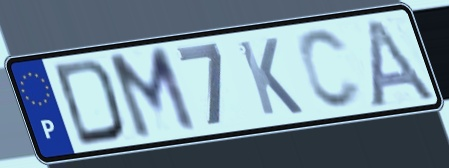7: (172, 39, 228, 130)
A: (364, 15, 440, 111)
C: (294, 26, 366, 112)
D: (50, 56, 129, 149)
K: (234, 35, 307, 119)
M: (104, 43, 202, 145)
